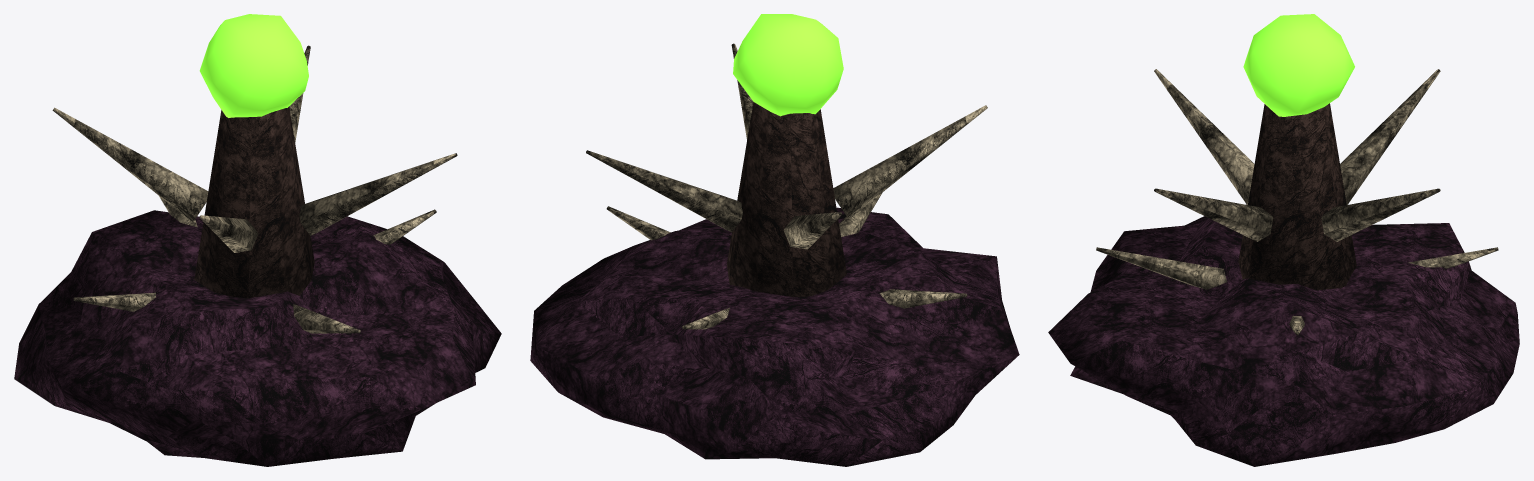
Rendered from bug_tower.gltf.
3 views of the same model, side by side, from view 1: azimuth 30°, elevation 25°; view 2: azimuth 150°, elevation 25°; view 3: azimuth 270°, elevation 25° (orthographic). The views are drawn at different scales.
Parts seen in each view (by area): view 1: base, trunk, coreorb, thorn3, thorn7, thorn5, thorn6, thorn4, thorn0; view 2: base, trunk, coreorb, thorn5, thorn1, thorn3, thorn4, thorn0, thorn6; view 3: base, trunk, coreorb, thorn3, thorn5, thorn7, thorn1, thorn6, thorn2.
Boxes of the visible parts, box(x1,y1,x2,y2) form: base: box(14, 210, 501, 466); trunk: box(194, 107, 314, 298); coreorb: box(199, 14, 308, 117); thorn3: box(52, 107, 208, 222); thorn7: box(299, 153, 457, 235); thorn5: box(199, 215, 258, 252); thorn6: box(293, 304, 360, 333); thorn4: box(73, 292, 155, 311); thorn0: box(373, 209, 436, 244); base: box(530, 207, 1019, 466); trunk: box(727, 102, 846, 296); coreorb: box(733, 14, 843, 116); thorn5: box(833, 105, 987, 218); thorn1: box(586, 150, 742, 232); thorn3: box(783, 212, 841, 249); thorn4: box(879, 289, 967, 308); thorn0: box(606, 206, 670, 240); thorn6: box(839, 193, 881, 236); base: box(1048, 204, 1519, 466); trunk: box(1238, 103, 1356, 290); coreorb: box(1243, 14, 1354, 116); thorn3: box(1340, 69, 1440, 204); thorn5: box(1154, 69, 1254, 204); thorn7: box(1154, 188, 1273, 241); thorn1: box(1321, 188, 1440, 241); thorn6: box(1096, 247, 1226, 289); thorn2: box(1408, 247, 1498, 268).
Size of the model in its own units: 111 by 85.61 by 108.
4 materials, 3 textured.
